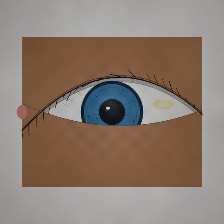pinguecula_lesion: (142, 88, 184, 121)
